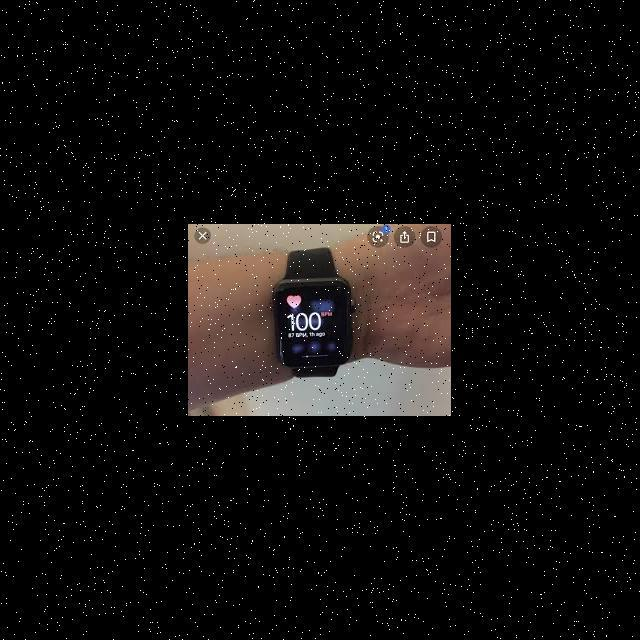watch: (258, 230, 377, 392)
